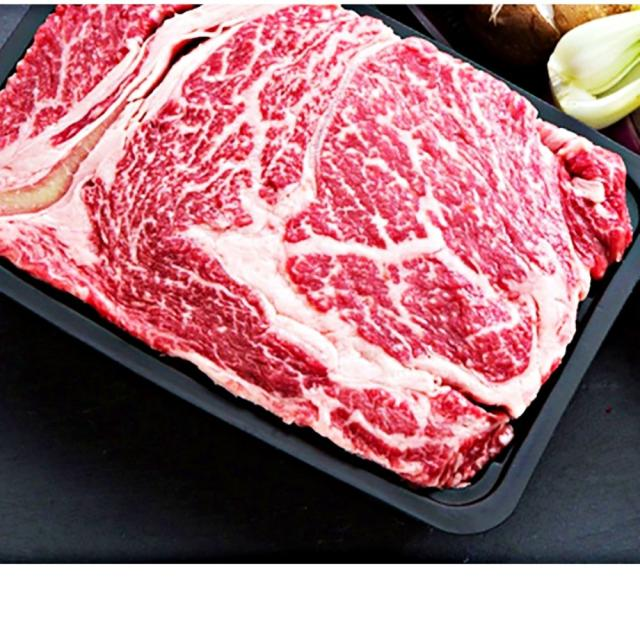beef: (198, 106, 490, 374)
